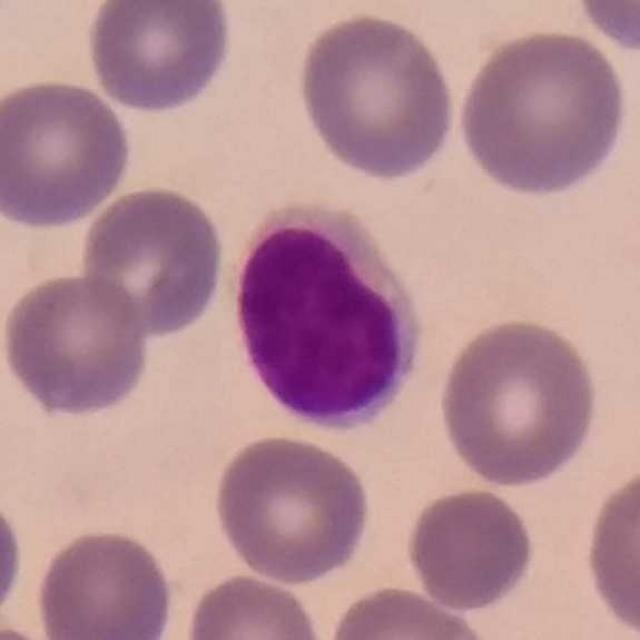Lymphocyte: (223, 202, 430, 438)
RBC: (452, 24, 633, 200), (434, 313, 603, 490), (292, 8, 460, 184), (210, 430, 374, 588), (76, 182, 229, 341), (0, 268, 154, 421), (0, 74, 136, 232), (82, 0, 237, 116), (402, 484, 539, 614), (32, 524, 179, 640), (580, 459, 640, 640), (323, 582, 503, 640), (182, 571, 330, 640), (0, 487, 27, 632), (571, 0, 640, 56)
